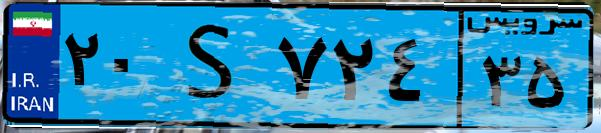0: (110, 28, 158, 98)
2: (330, 28, 385, 110), (57, 26, 110, 100)
3: (475, 38, 525, 113)
4: (385, 28, 445, 110)
5: (525, 38, 570, 115)
7: (270, 28, 330, 110)
S: (158, 12, 270, 120)
